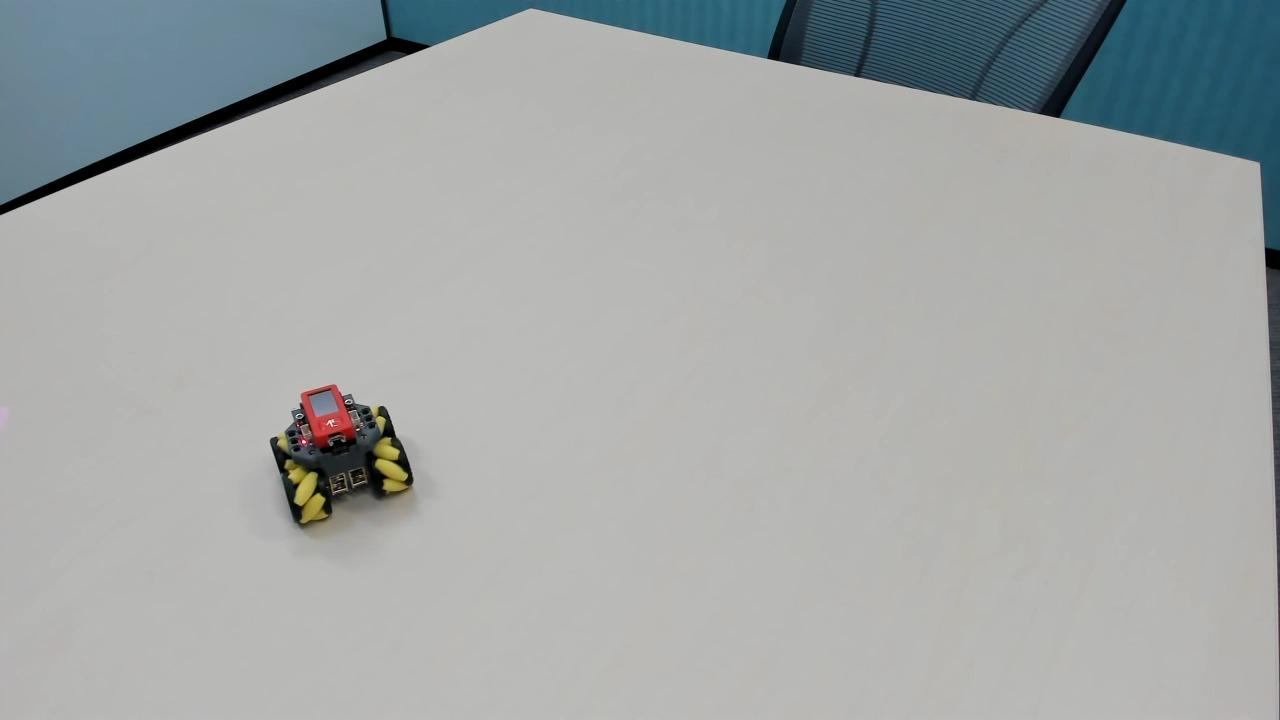R-Robot: (269, 371, 420, 546)
